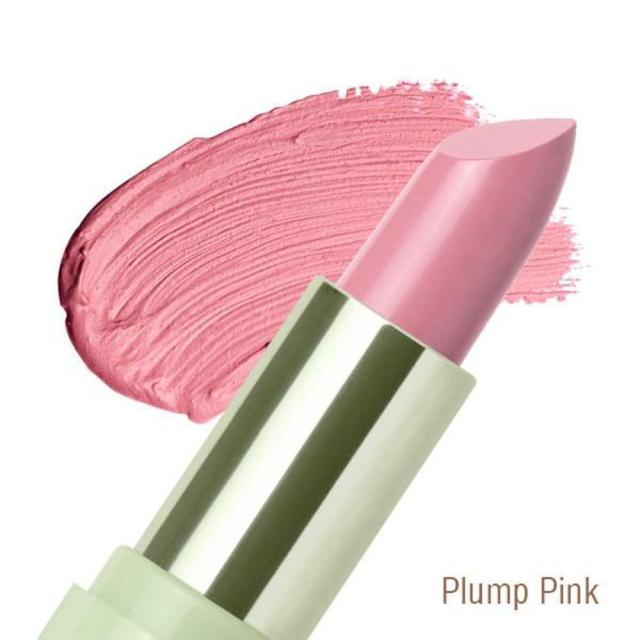lipstick: (90, 88, 580, 552)
